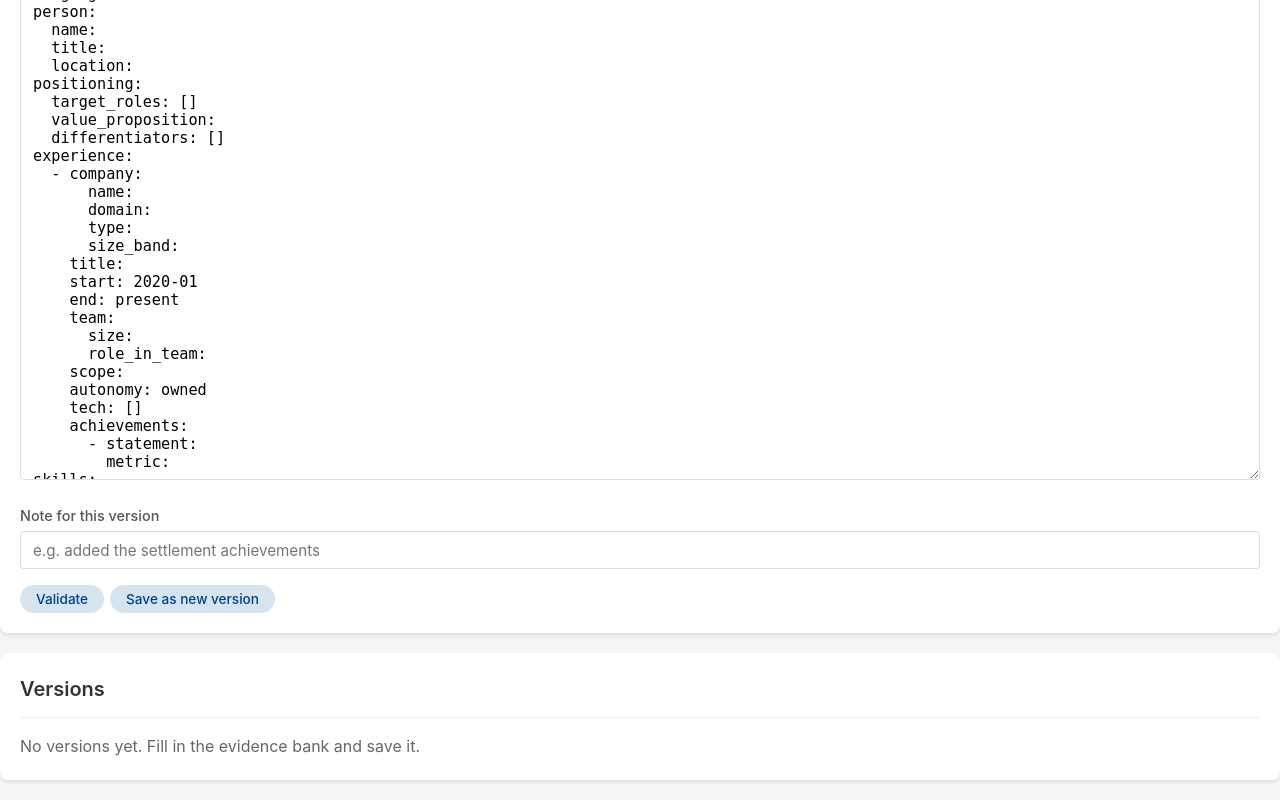
Test case: MasiCv › a refused save shows the errors and creates nothing
The width and height of the screenshot is (1280, 800).
(page scrolled)
Click the button "Save as new version" at (193, 599), box x1=110 y1=585 x2=275 y2=613
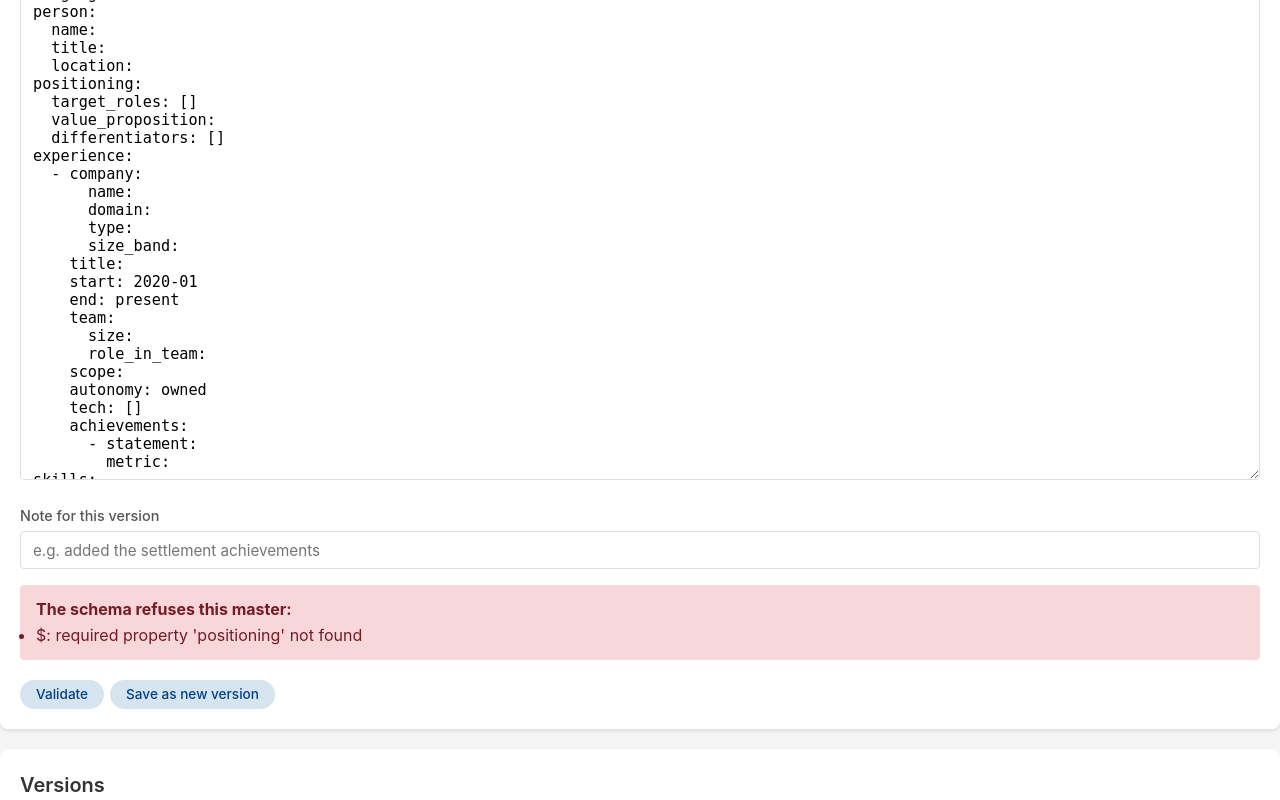
Expected: the message shows "required property 'positioning'", x1=36 y1=625 x2=362 y2=645
